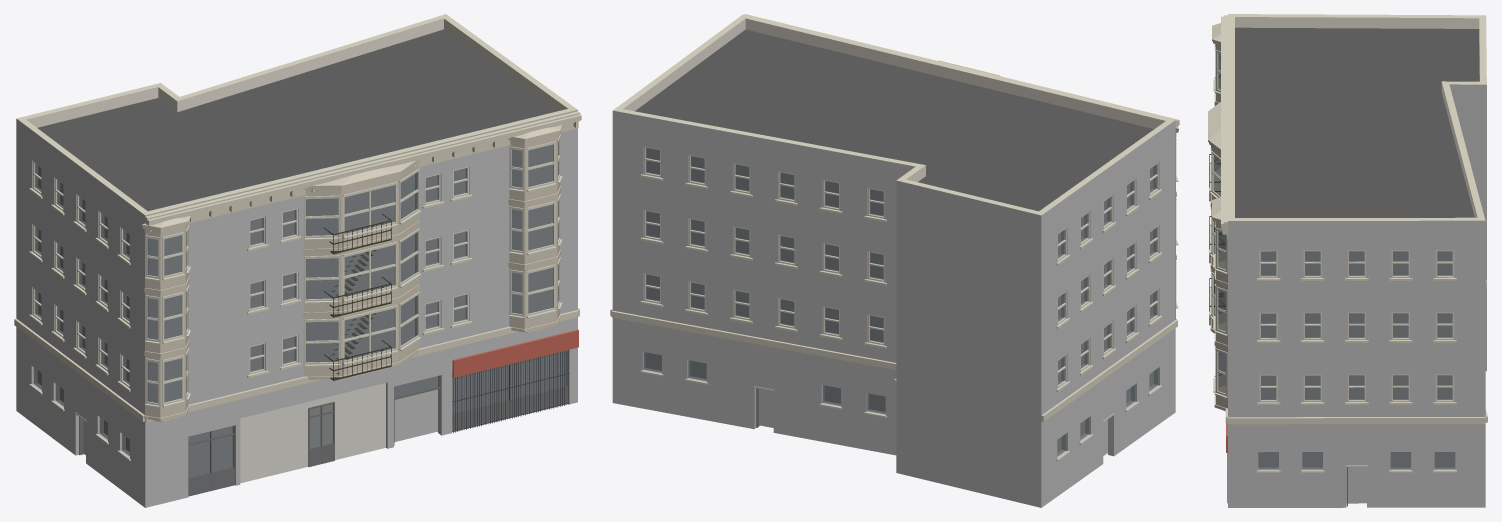
File: exterior.glb
3 renders of one model, left to right at view 1: azimuth 30°, elevation 25°; view 2: azimuth 150°, elevation 25°; view 3: azimuth 270°, elevation 25°, orthographic.
Parts seen in each view (by area): view 1: shell, roof, bay-glazing-hyb, shadow-proxy, storefront, bay-windows-hyb, glazing, trim, frames, front-dressing, fire-escape; view 2: shell, roof, glazing, shadow-proxy, trim, frames; view 3: shell, roof, shadow-proxy, glazing, trim, frames, bay-glazing-hyb, bay-windows-hyb.
Boxes of the visible parts, bbox=[...] form: shell: bbox=[16, 14, 577, 507]; roof: bbox=[37, 29, 556, 211]; bay-glazing-hyb: bbox=[145, 134, 562, 407]; shadow-proxy: bbox=[38, 145, 565, 477]; storefront: bbox=[75, 350, 569, 496]; bay-windows-hyb: bbox=[142, 125, 562, 421]; glazing: bbox=[33, 163, 566, 478]; trim: bbox=[14, 111, 581, 460]; frames: bbox=[32, 161, 468, 387]; front-dressing: bbox=[452, 329, 578, 377]; fire-escape: bbox=[324, 213, 391, 380]; shell: bbox=[612, 14, 1175, 507]; roof: bbox=[635, 29, 1153, 211]; glazing: bbox=[643, 148, 1157, 456]; shadow-proxy: bbox=[646, 148, 1153, 455]; trim: bbox=[610, 14, 1179, 461]; frames: bbox=[644, 146, 1158, 387]; shell: bbox=[1228, 14, 1486, 507]; roof: bbox=[1235, 27, 1479, 217]; shadow-proxy: bbox=[1258, 251, 1454, 503]; glazing: bbox=[1258, 251, 1455, 469]; trim: bbox=[1221, 15, 1487, 472]; frames: bbox=[1259, 250, 1454, 402]; bay-glazing-hyb: bbox=[1209, 44, 1227, 398]; bay-windows-hyb: bbox=[1208, 23, 1227, 410].
Size of the model in its own units: 24.19 by 15.43 by 13.64.
